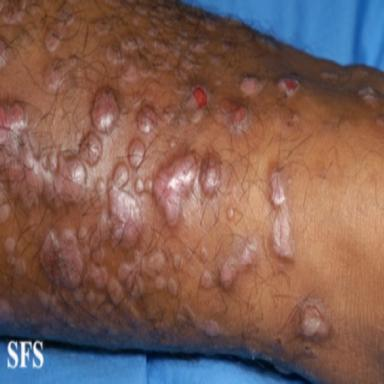Epidermolysis-Bullosa-Pruriginosa: (37, 223, 178, 345), (89, 153, 198, 262), (0, 104, 102, 208), (95, 3, 215, 82), (271, 173, 294, 257), (220, 241, 257, 287), (45, 5, 73, 52), (179, 85, 210, 124), (299, 303, 331, 340), (44, 58, 77, 92), (92, 92, 119, 132), (199, 153, 221, 196), (4, 237, 25, 276), (0, 0, 25, 23), (138, 106, 157, 132), (241, 76, 265, 96), (176, 304, 195, 327), (128, 138, 145, 163), (277, 77, 300, 95), (233, 108, 247, 132), (203, 319, 219, 337), (0, 298, 11, 321), (200, 268, 212, 288), (0, 203, 11, 221), (0, 40, 7, 68), (320, 72, 338, 80), (173, 254, 181, 269), (200, 247, 208, 260), (227, 206, 234, 219), (170, 138, 175, 147)
